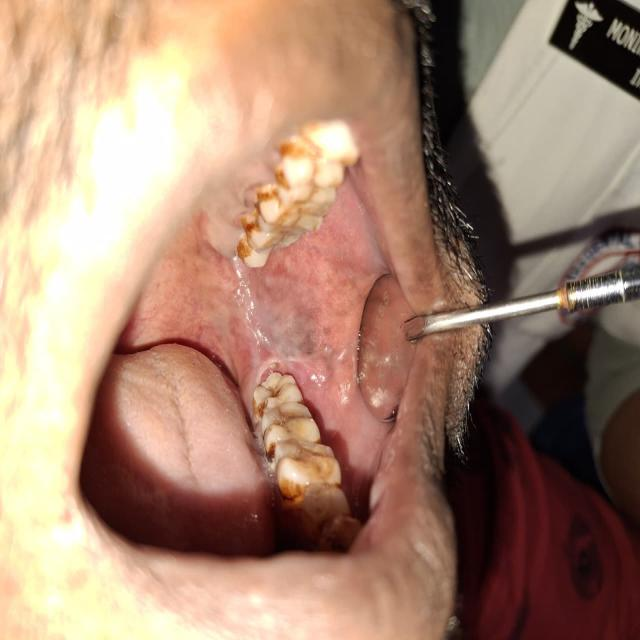leukoplakia-detection: (188, 274, 343, 403)
processing_area: (110, 183, 392, 497)
